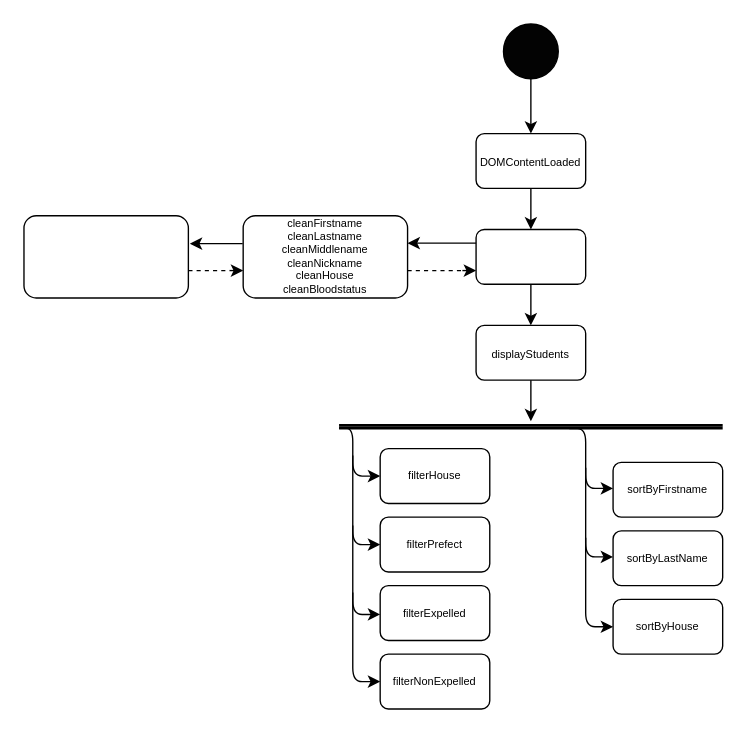
The diagram is 748 pixels wide and 733 high, and some of its shapes have lost their labels. The box of each missing label's shape, as (x1, y1, x2, y2) in pixels:
capitalize: (23, 214, 188, 298)
prepareData: (475, 228, 586, 284)
